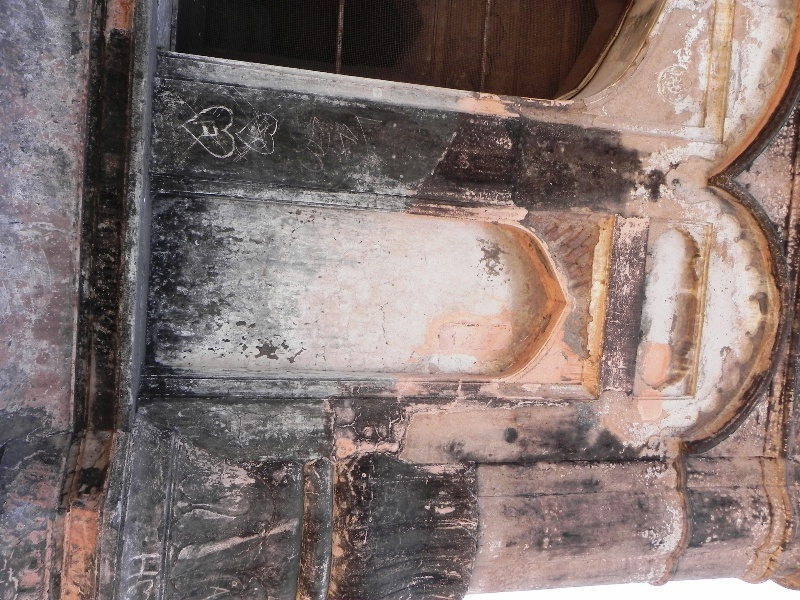Exposed Bricks: (521, 208, 600, 281)
Spalling: (565, 293, 598, 365)
